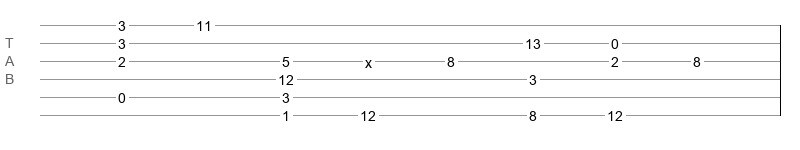0: (118, 90, 126, 100), (611, 36, 619, 46)
1: (282, 108, 290, 118)
11: (196, 18, 212, 28)
12: (278, 72, 294, 82), (360, 108, 376, 118), (607, 108, 623, 118)
13: (525, 36, 541, 46)
2: (118, 54, 126, 64), (611, 54, 619, 64)
3: (118, 36, 126, 46), (118, 18, 126, 28), (282, 90, 290, 100), (529, 72, 537, 82)
5: (282, 54, 290, 64)
8: (447, 54, 455, 64), (529, 108, 537, 118), (693, 54, 701, 64)
x: (365, 55, 372, 63)
